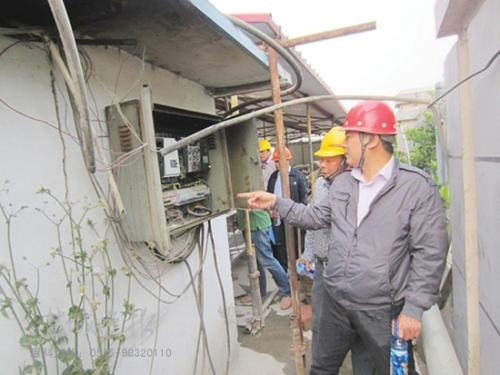red: (342, 98, 399, 171)
yellow: (315, 127, 347, 178), (257, 138, 271, 161)
